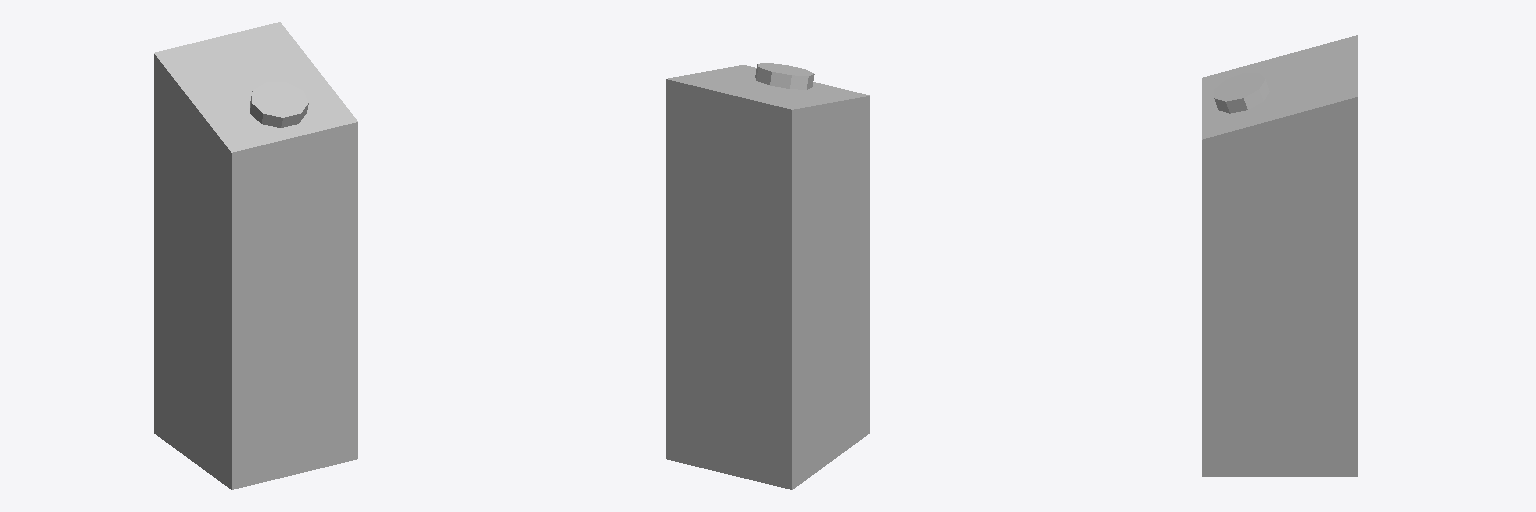
The model's file is Caixinha de leite.obj.
The picture shows the model from 3 angles: view 1: azimuth 30°, elevation 25°; view 2: azimuth 150°, elevation 25°; view 3: azimuth 270°, elevation 25°; orthographic projection.
Visible parts, largest first — view 1: Caixa_de_leite_Cube.001; view 2: Caixa_de_leite_Cube.001; view 3: Caixa_de_leite_Cube.001.
Boxes of the visible parts, box(x1,y1,x2,y2) form: Caixa_de_leite_Cube.001: box(154, 22, 357, 489); Caixa_de_leite_Cube.001: box(666, 63, 869, 489); Caixa_de_leite_Cube.001: box(1202, 35, 1357, 476).
Size of the model in its own units: 2.74 by 7.84 by 2.92.